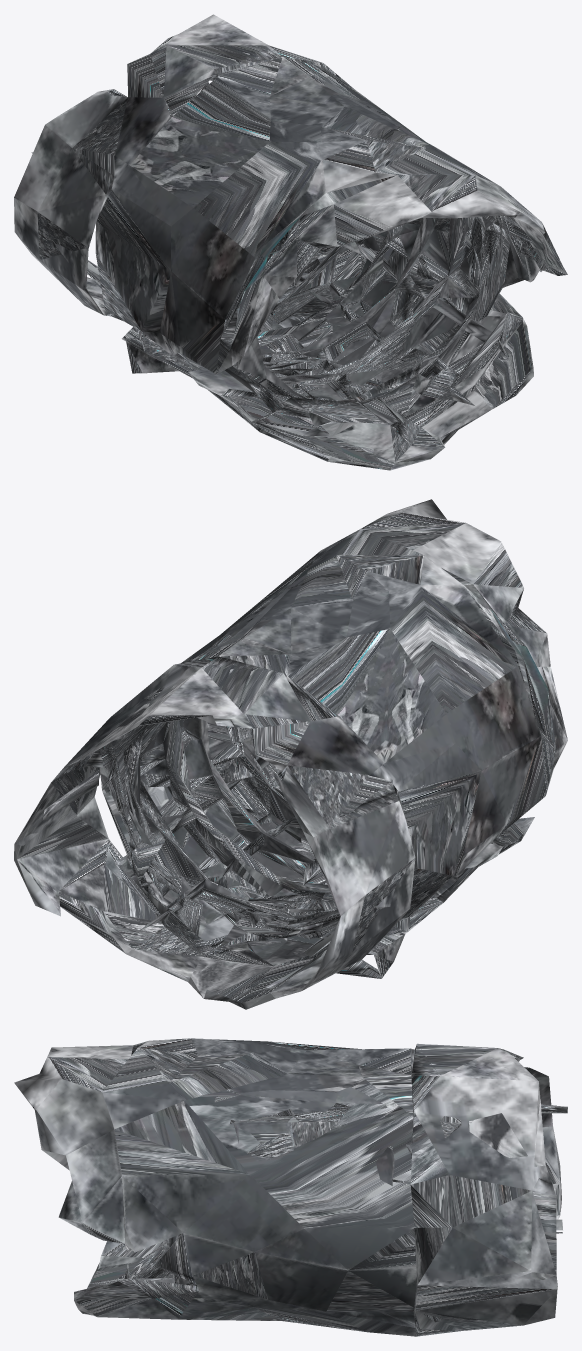
The model's file is prop_debris-high.glb.
The picture shows the model from 3 angles, top to bottom: view 1: azimuth 30°, elevation 25°; view 2: azimuth 150°, elevation 25°; view 3: azimuth 270°, elevation 25°; orthographic projection. The views are drawn at different scales.
Parts seen in each view (by area): view 1: Mesh_0; view 2: Mesh_0; view 3: Mesh_0.
Boxes of the visible parts, x1=… form: Mesh_0: x1=14, y1=14, x2=567, y2=470; Mesh_0: x1=14, y1=499, x2=567, y2=1009; Mesh_0: x1=14, y1=1038, x2=567, y2=1336.
Size of the model in its own units: 1.17 by 1.01 by 1.91.
Materials: 1 (1 with a texture image).
